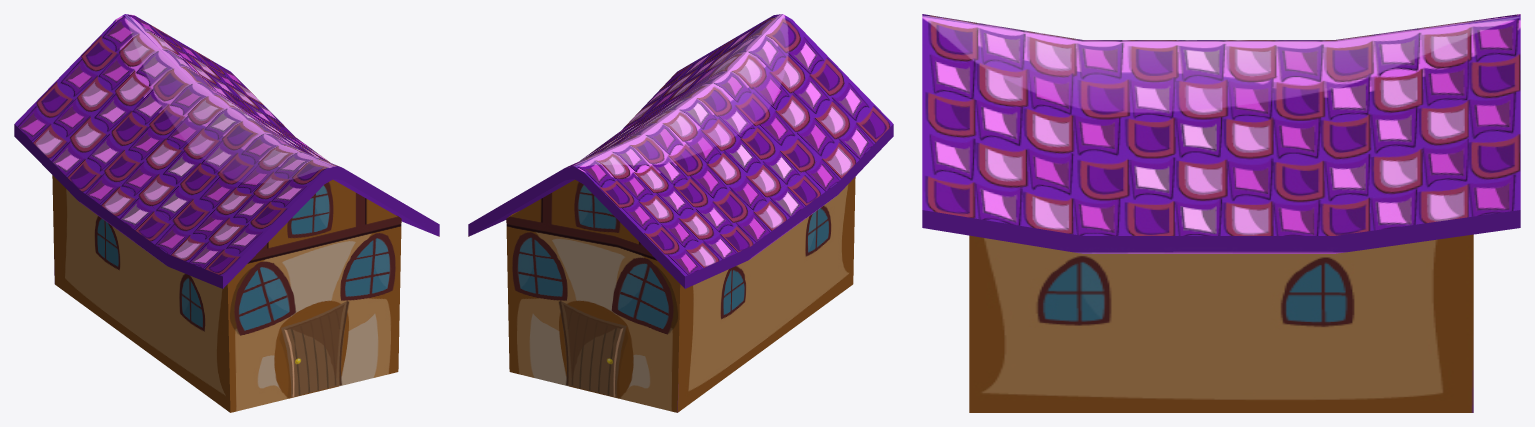
The picture shows the model from 3 angles, left to right: view 1: azimuth 30°, elevation 25°; view 2: azimuth 150°, elevation 25°; view 3: azimuth 270°, elevation 25°; orthographic projection. The views are drawn at different scales.
Visible parts, largest first — view 1: final:admin_20170511_1627:polySurface28; view 2: final:admin_20170511_1627:polySurface28; view 3: final:admin_20170511_1627:polySurface28.
Part boxes in pixels (x1=…): final:admin_20170511_1627:polySurface28: x1=14, y1=14, x2=439, y2=412; final:admin_20170511_1627:polySurface28: x1=468, y1=14, x2=893, y2=412; final:admin_20170511_1627:polySurface28: x1=922, y1=14, x2=1520, y2=412.
Size of the model in its own units: 1133 by 1186 by 1889.
